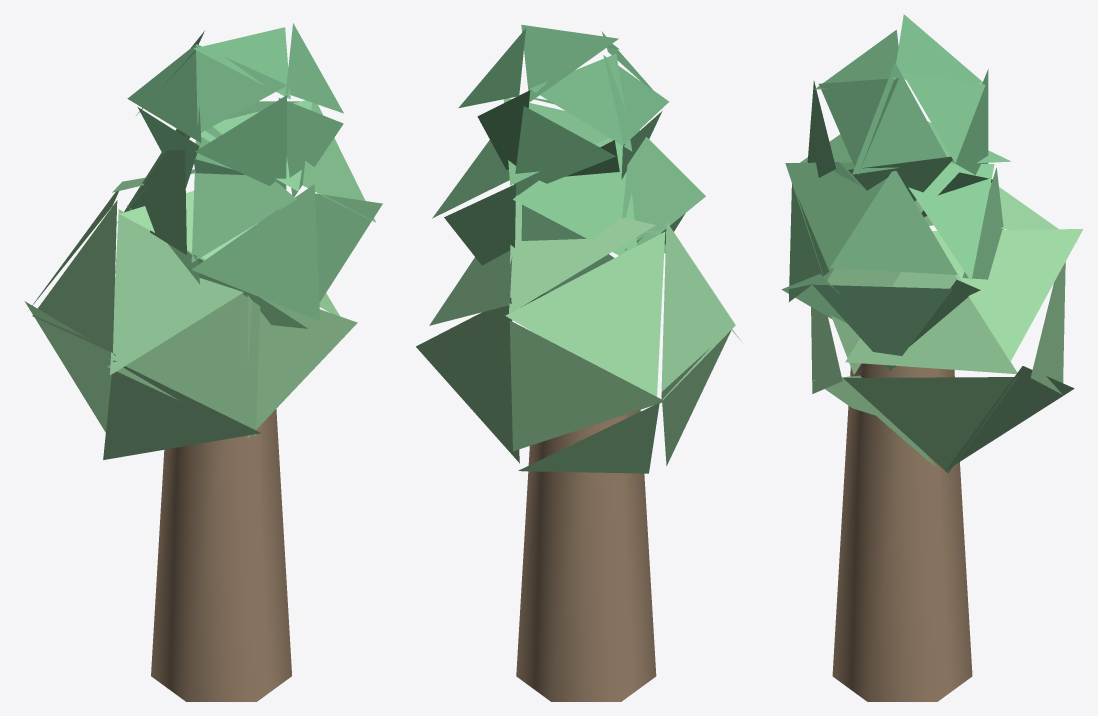
Rendered from tree_round_2.glb.
3 renders of one model, left to right at view 1: azimuth 30°, elevation 25°; view 2: azimuth 150°, elevation 25°; view 3: azimuth 270°, elevation 25°, orthographic.
Parts seen in each view (by area): view 1: tree_round_2; view 2: tree_round_2; view 3: tree_round_2.
Part boxes in pixels (x1,y1,x2,y2): tree_round_2: (24, 23, 382, 701); tree_round_2: (416, 24, 741, 701); tree_round_2: (781, 14, 1083, 701).
Size of the model in its own units: 1.08 by 2.44 by 1.07.
